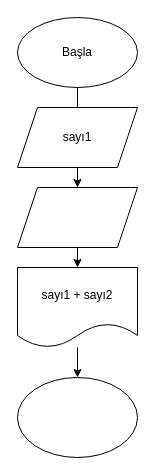
The diagram is 155 pixels wide and 475 high, and some of its shapes have lost their labels. The box of each missing label's shape, as (x1, y1, x2, y2) in pixels:
bitiş: (16, 376, 138, 458)
sayı2: (16, 186, 138, 248)
